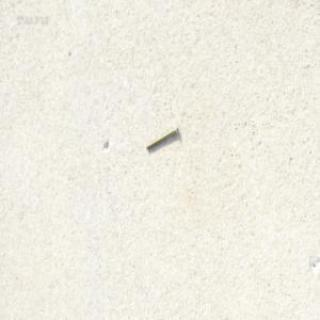Bolttrack_idkeyframe: (144, 122, 178, 150)
